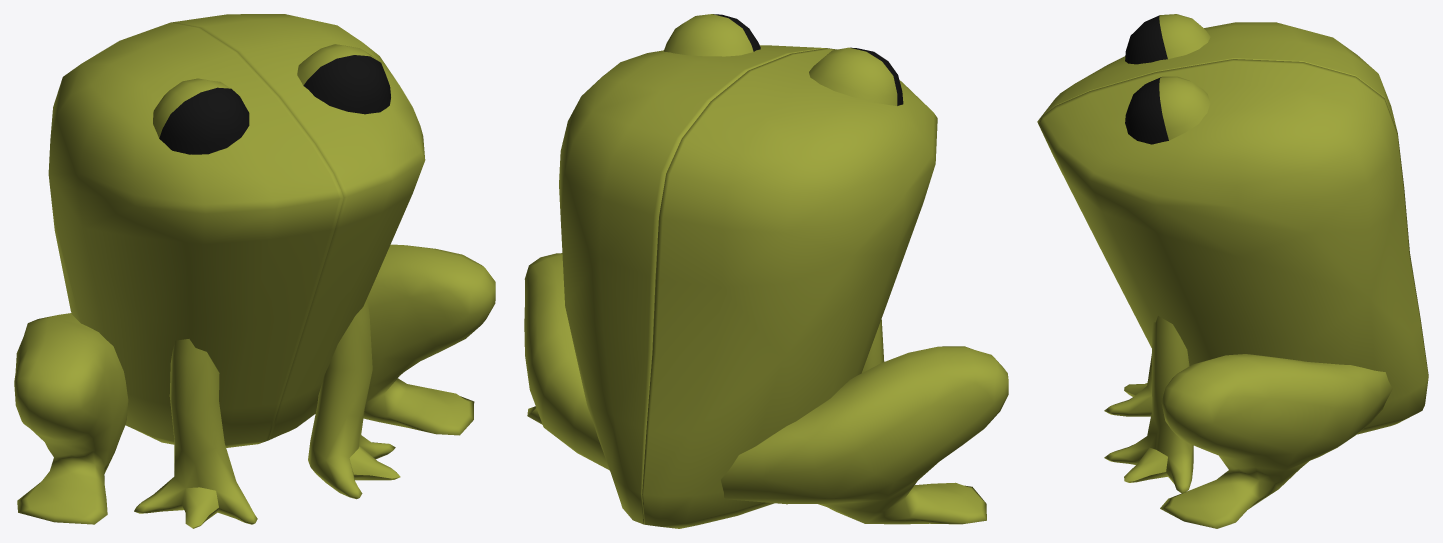
File: SM_Frog_01a.fbx
3 views of the same model, side by side, from view 1: azimuth 30°, elevation 25°; view 2: azimuth 150°, elevation 25°; view 3: azimuth 270°, elevation 25° (orthographic). The views are drawn at different scales.
Visible parts, largest first — view 1: Frog_02, Frog_01; view 2: Frog_02, Frog_01; view 3: Frog_01, Frog_02.
Boxes of the visible parts, x1,y1,x2,y2 form: Frog_02: (14,22,343,528); Frog_01: (171,14,495,499); Frog_02: (642,47,1008,528); Frog_01: (524,14,826,524); Frog_01: (1037,59,1428,528); Frog_02: (1039,14,1397,416).
Size of the model in its own units: 44.39 by 37.81 by 34.52.
